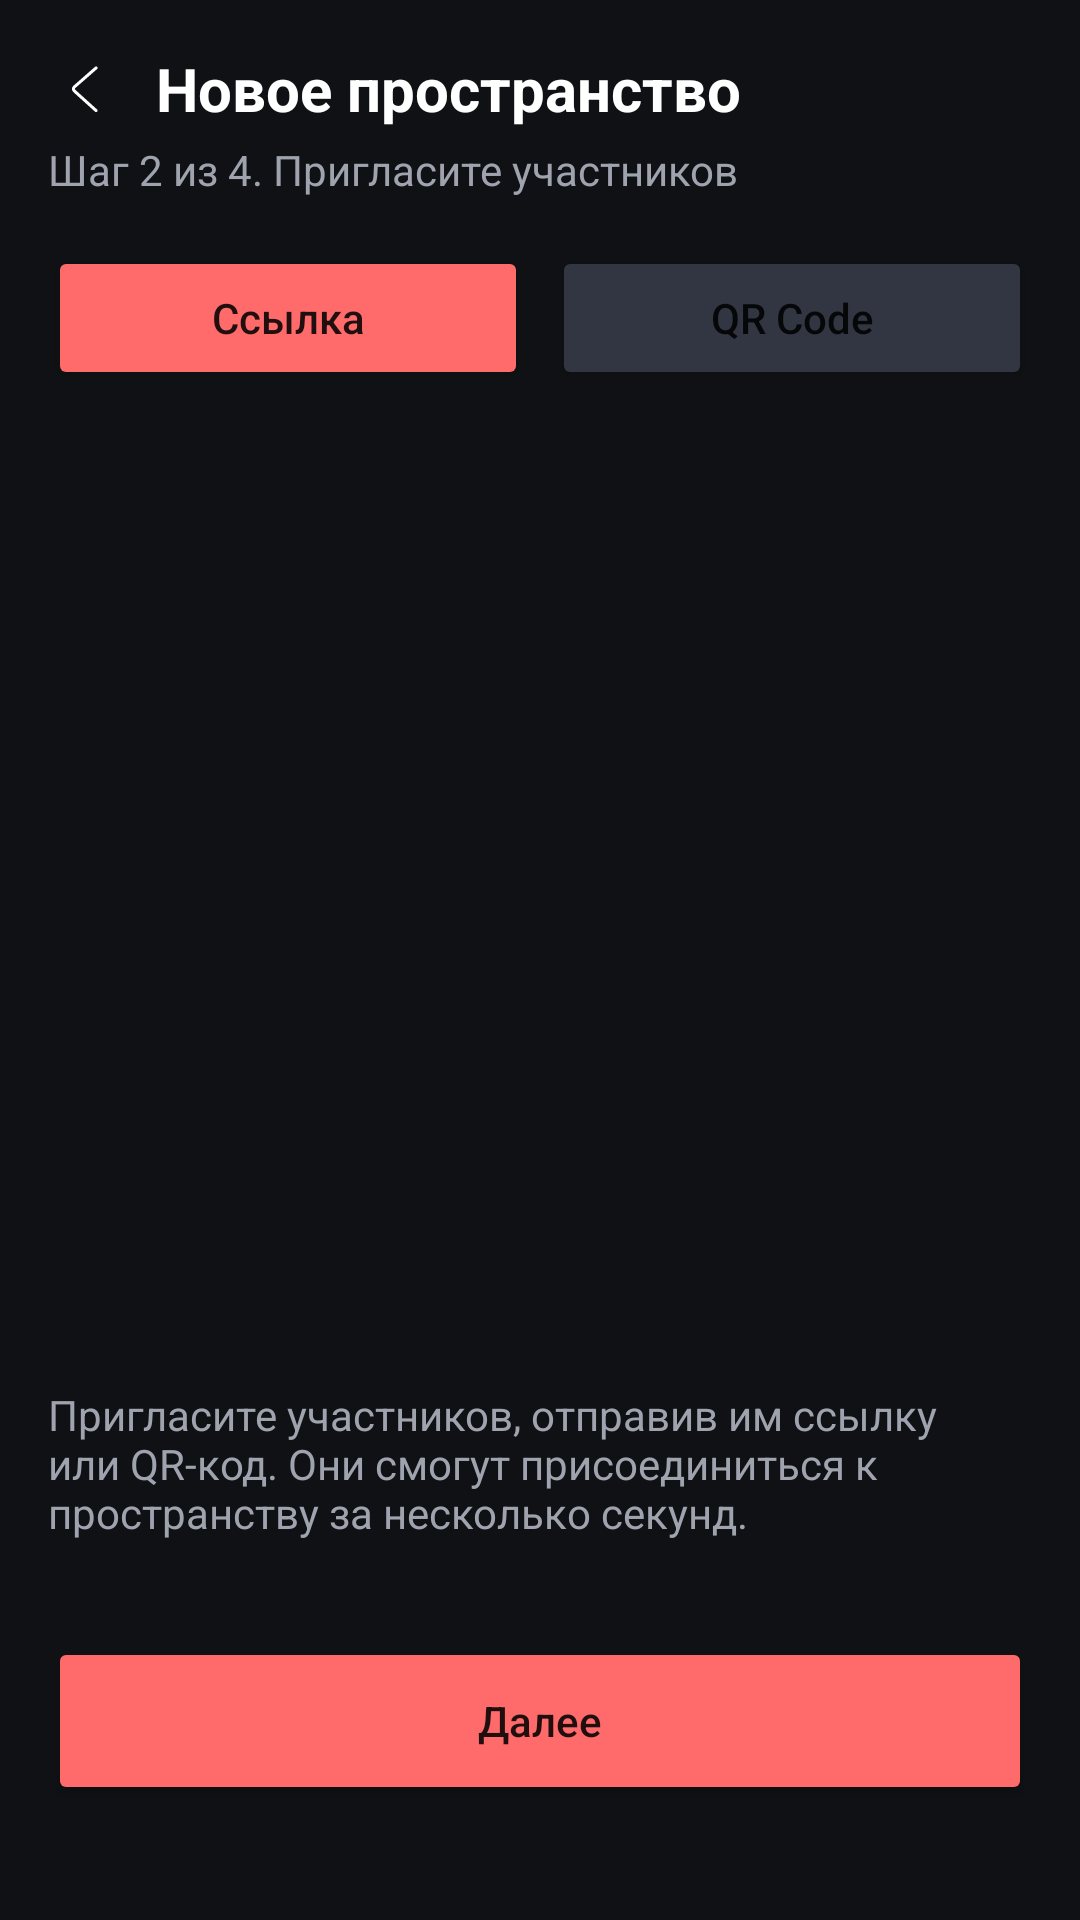

Where to tap for icons on this 1080px×1920px app screen, as point (x, y):
back: point (85, 89)
